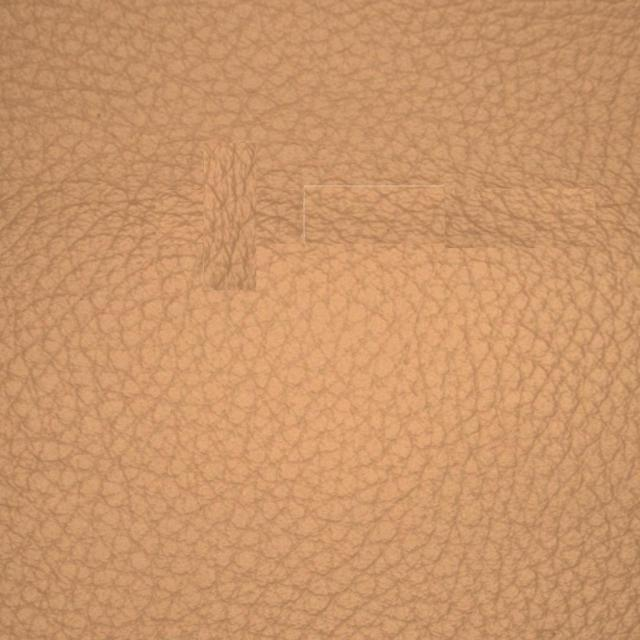Healed Injury: (166, 110, 318, 306), (402, 165, 575, 266)
